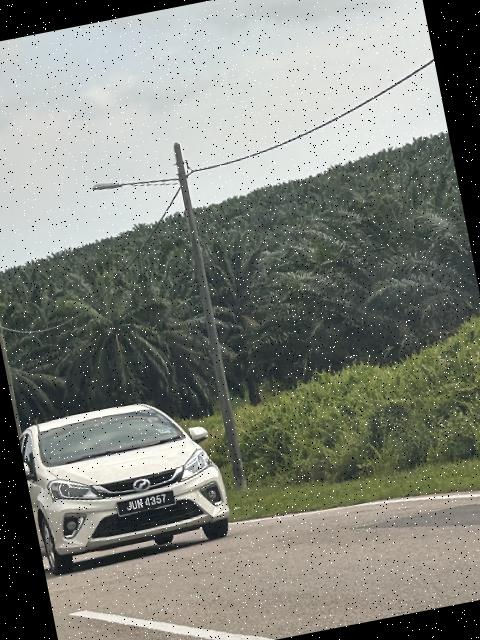License_Plate: (117, 490, 177, 519)
car: (16, 379, 254, 595)
